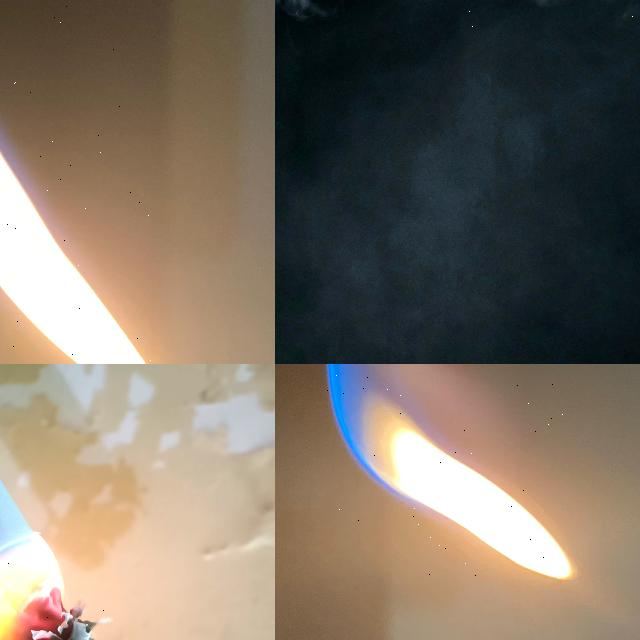fire: (327, 364, 573, 580), (0, 145, 149, 364), (0, 534, 98, 640)
